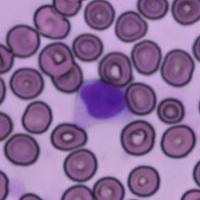L: (73, 78, 132, 127)
